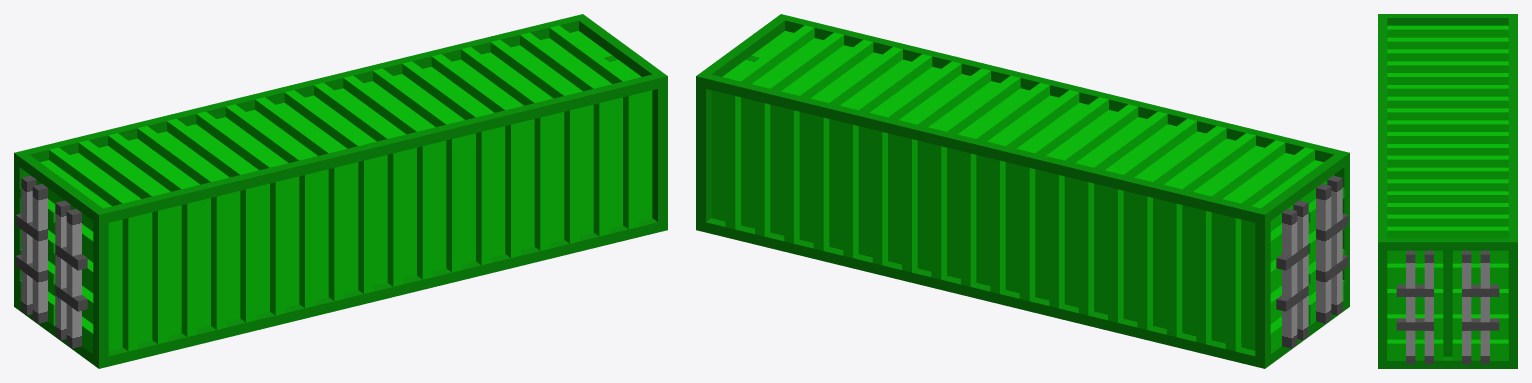
File: obj_container2.fbx
The picture shows the model from 3 angles, left to right: view 1: azimuth 30°, elevation 25°; view 2: azimuth 150°, elevation 25°; view 3: azimuth 270°, elevation 25°; orthographic projection. The views are drawn at different scales.
Parts seen in each view (by area): view 1: obj_container2; view 2: obj_container2; view 3: obj_container2.
Part boxes in pixels (bbox=[...]): obj_container2: bbox=[14, 14, 667, 368]; obj_container2: bbox=[696, 14, 1349, 368]; obj_container2: bbox=[1378, 14, 1517, 368].
Bounding box in the file's own units: 6 × 1.5 × 1.5.
1 material, 1 textured.
